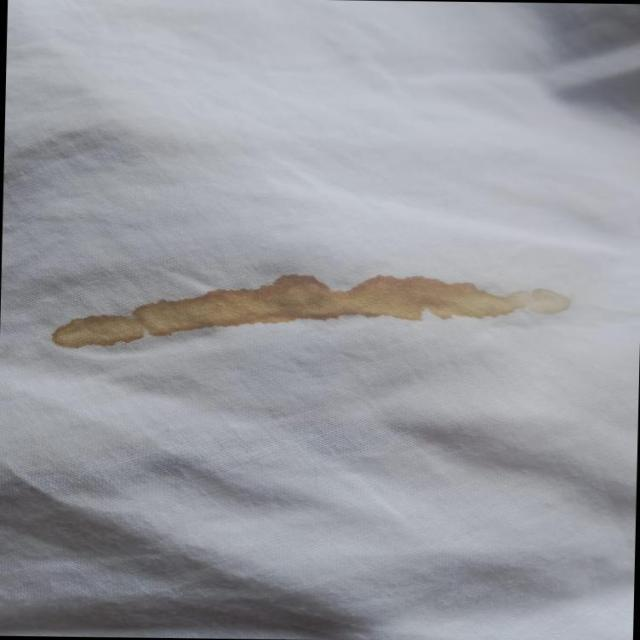stain: (32, 270, 591, 360)
